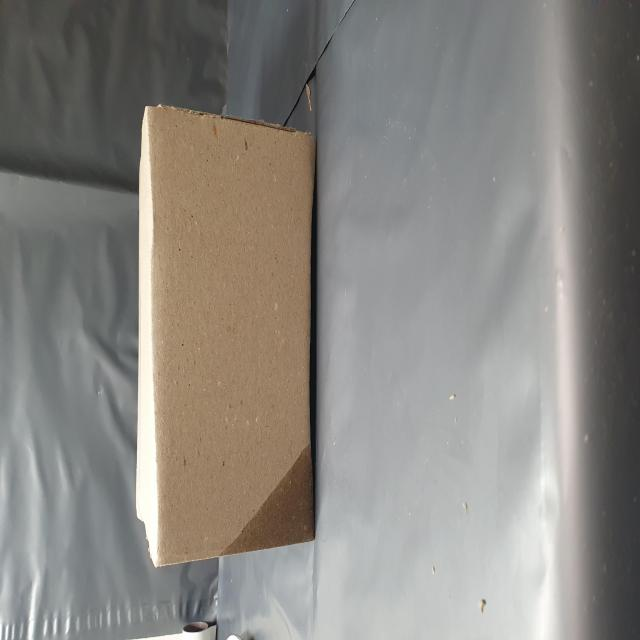wet: (48, 406, 111, 563)
